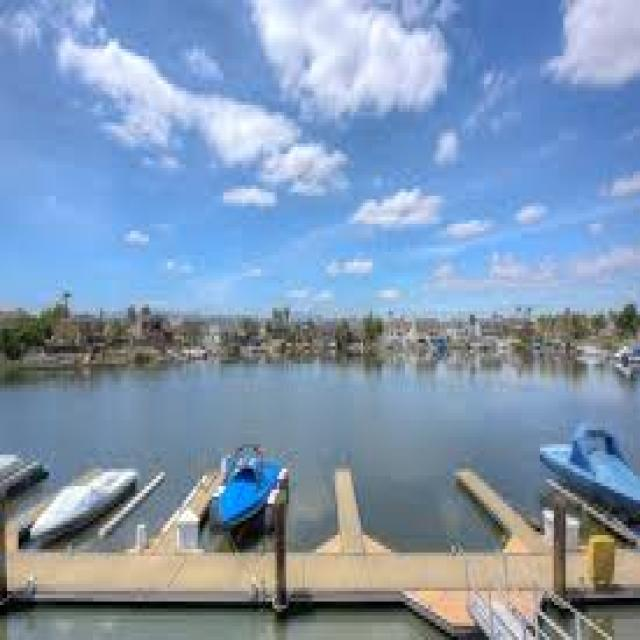houseboat: (539, 415, 640, 521), (26, 456, 134, 540), (204, 437, 281, 534)
